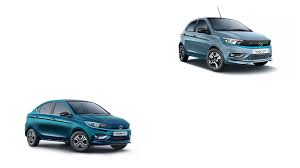Tiago: (176, 15, 275, 76), (23, 99, 133, 153)
